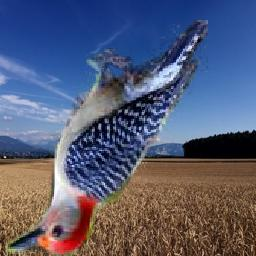Woodpecker: (6, 20, 208, 256)
